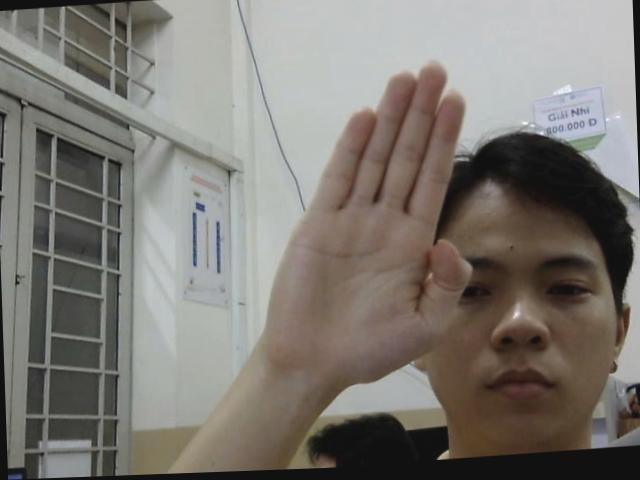B: (266, 39, 480, 388)
